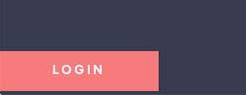button: (0, 49, 163, 91)
